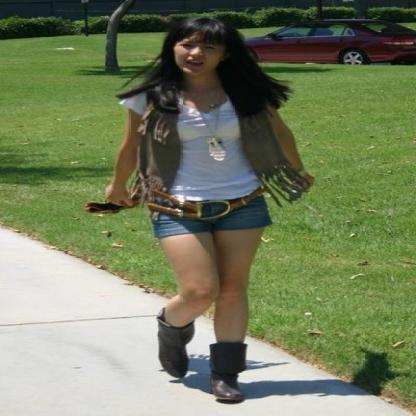shirt: (142, 84, 311, 206), (118, 94, 257, 203)
shoe: (157, 308, 247, 404)
